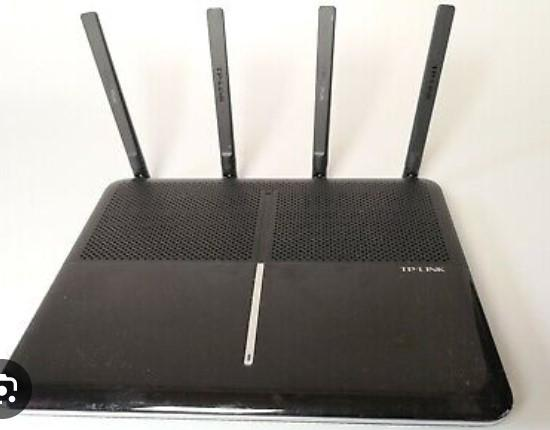Router: (0, 4, 514, 424)
